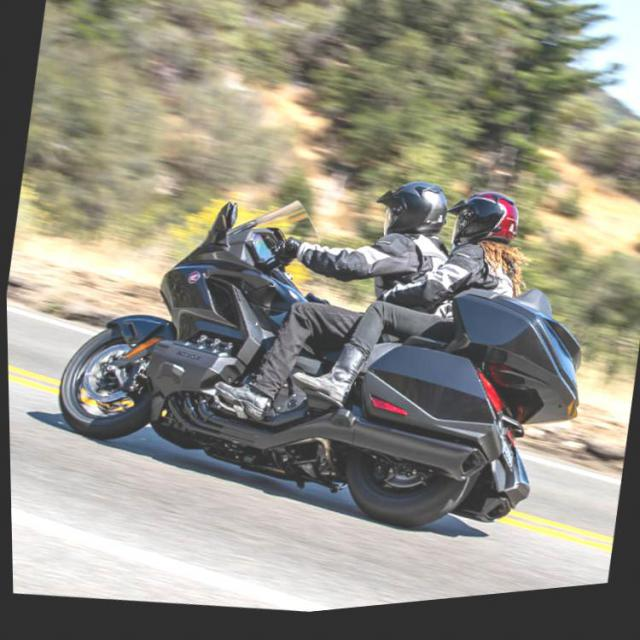Gold Wing: (34, 149, 610, 586)
